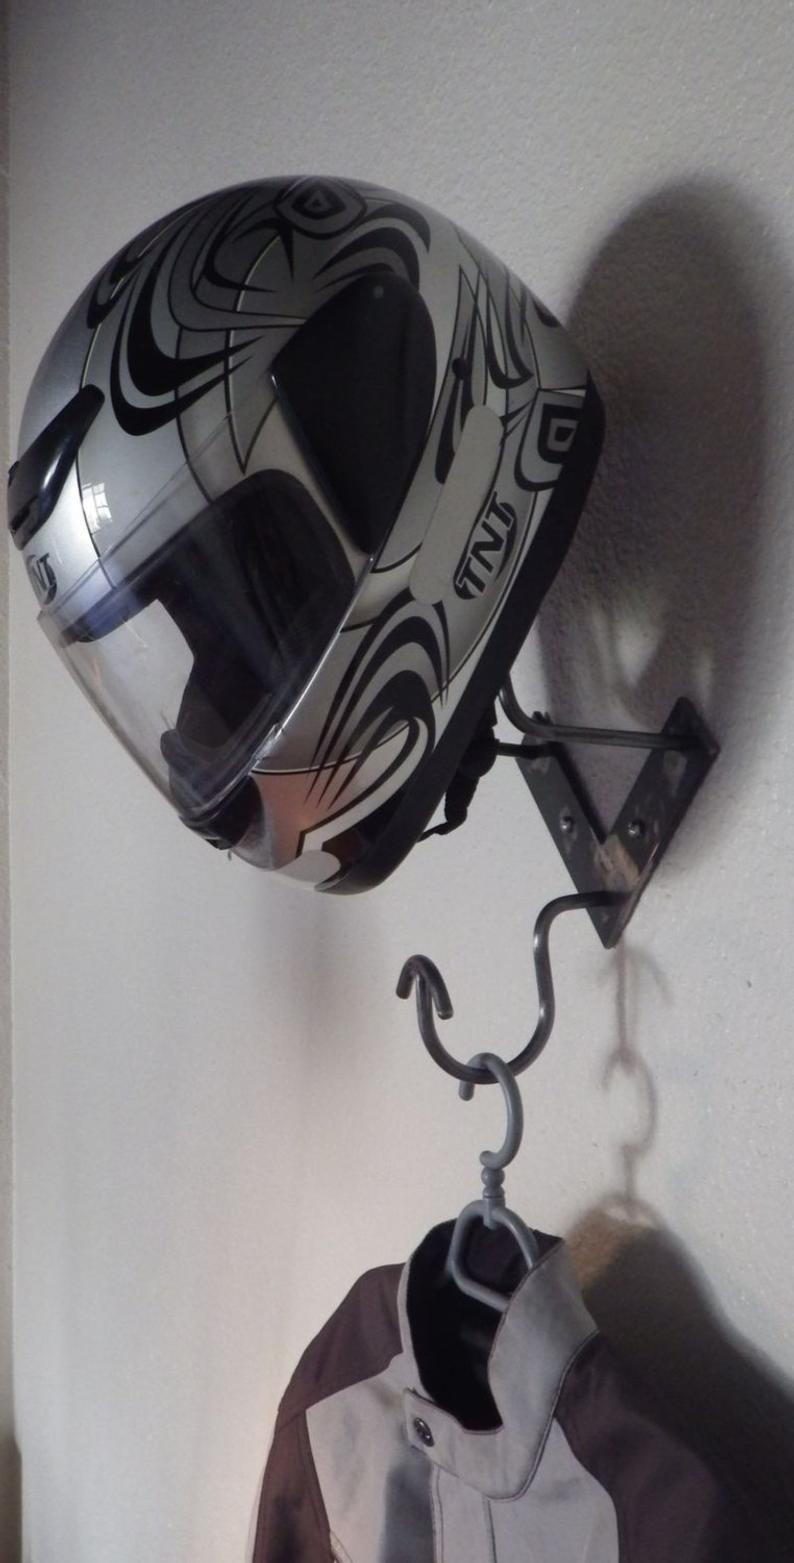with_helmet: (7, 171, 739, 899)
